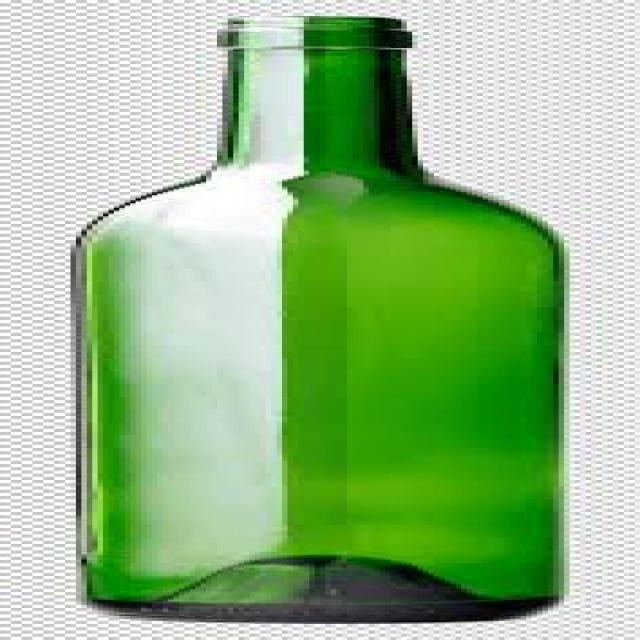Glass: (54, 12, 574, 626)
